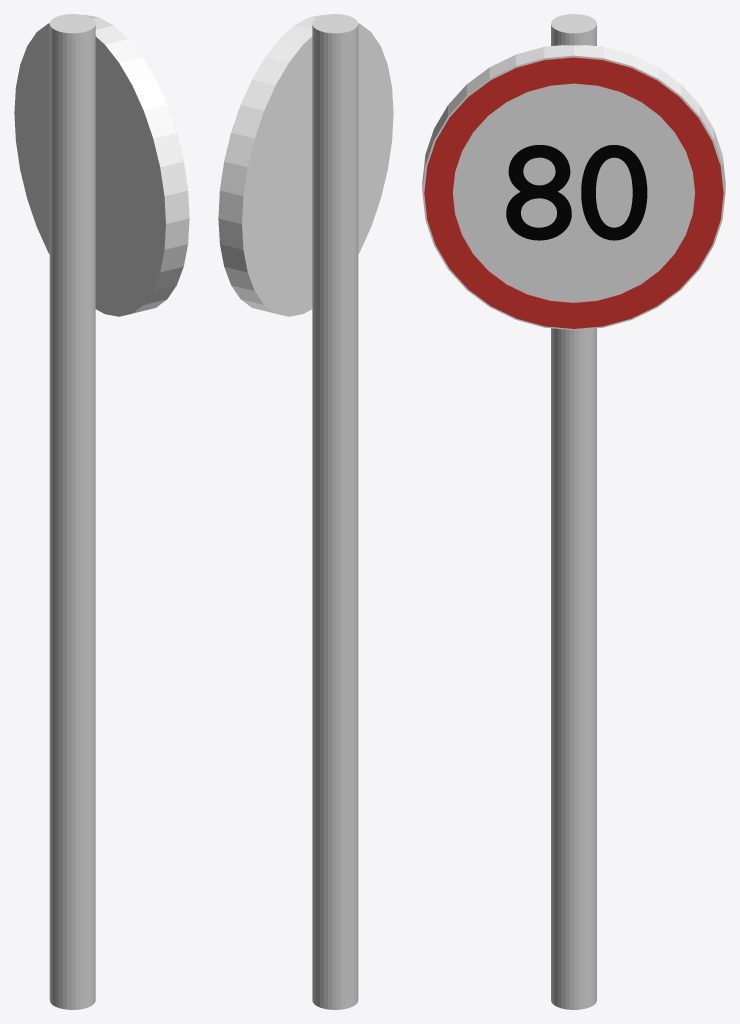
The model's file is SignSpeedLimit80.fbx.
3 views of the same model, side by side, from view 1: azimuth 30°, elevation 25°; view 2: azimuth 150°, elevation 25°; view 3: azimuth 270°, elevation 25° (orthographic).
Parts seen in each view (by area): view 1: Cylinder.011, SignCircle.012; view 2: Cylinder.011, SignCircle.012; view 3: SignCircle.012, Cylinder.011, SignCircle.013, TextStop.007.
Part boxes in pixels (box(x1,y1,x2,y2)): Cylinder.011: box(49, 14, 95, 1009); SignCircle.012: box(14, 15, 189, 316); Cylinder.011: box(312, 14, 358, 1009); SignCircle.012: box(218, 15, 393, 316); SignCircle.012: box(422, 45, 725, 330); Cylinder.011: box(551, 14, 596, 1009); SignCircle.013: box(424, 57, 723, 328); TextStop.007: box(506, 145, 647, 240).
Size of the model in its own units: 111 by 1671 by 470.
